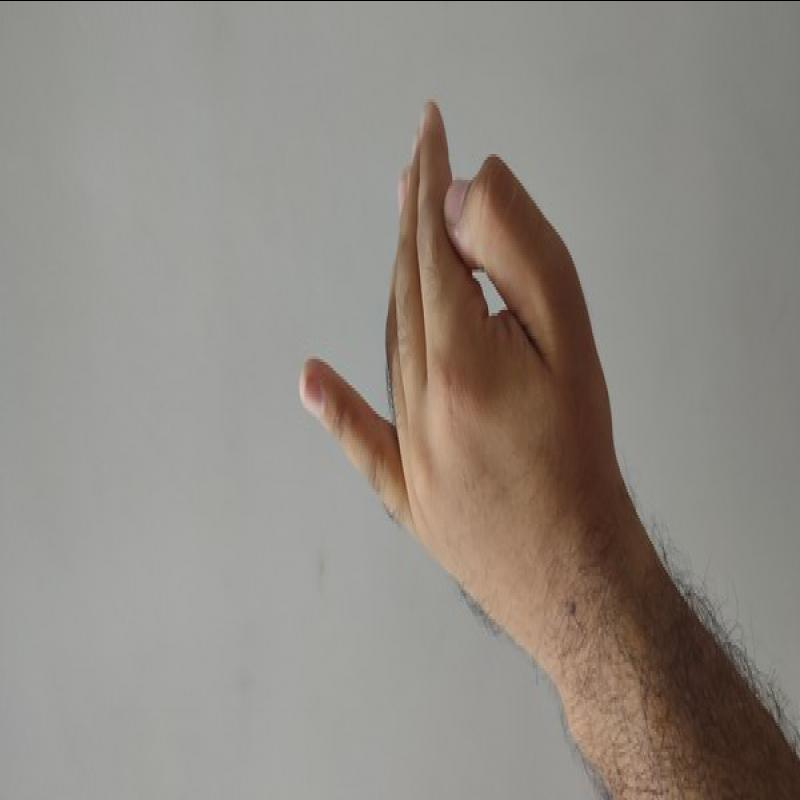Kartharee Mukham: (288, 87, 640, 620)
